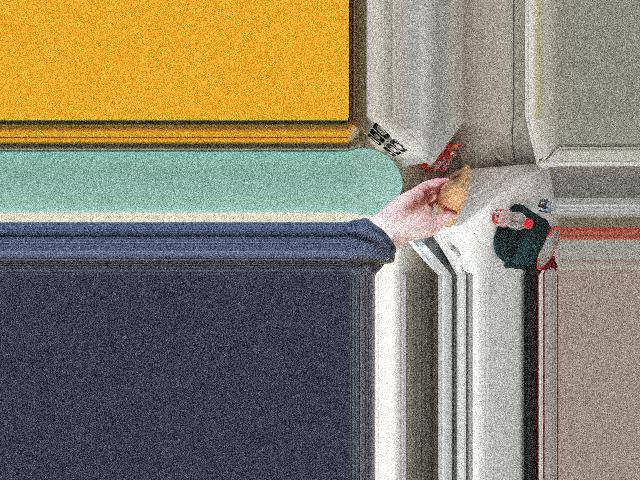sweet_potato: (439, 181, 466, 220)
